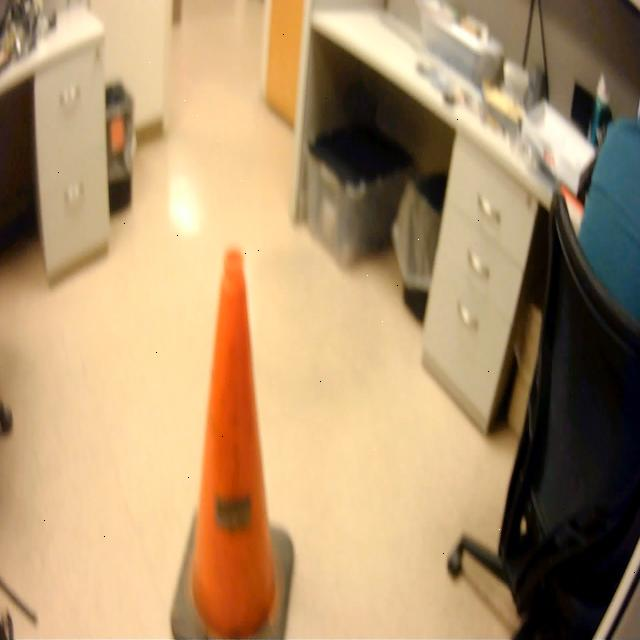traffic cone: (165, 238, 301, 640)
